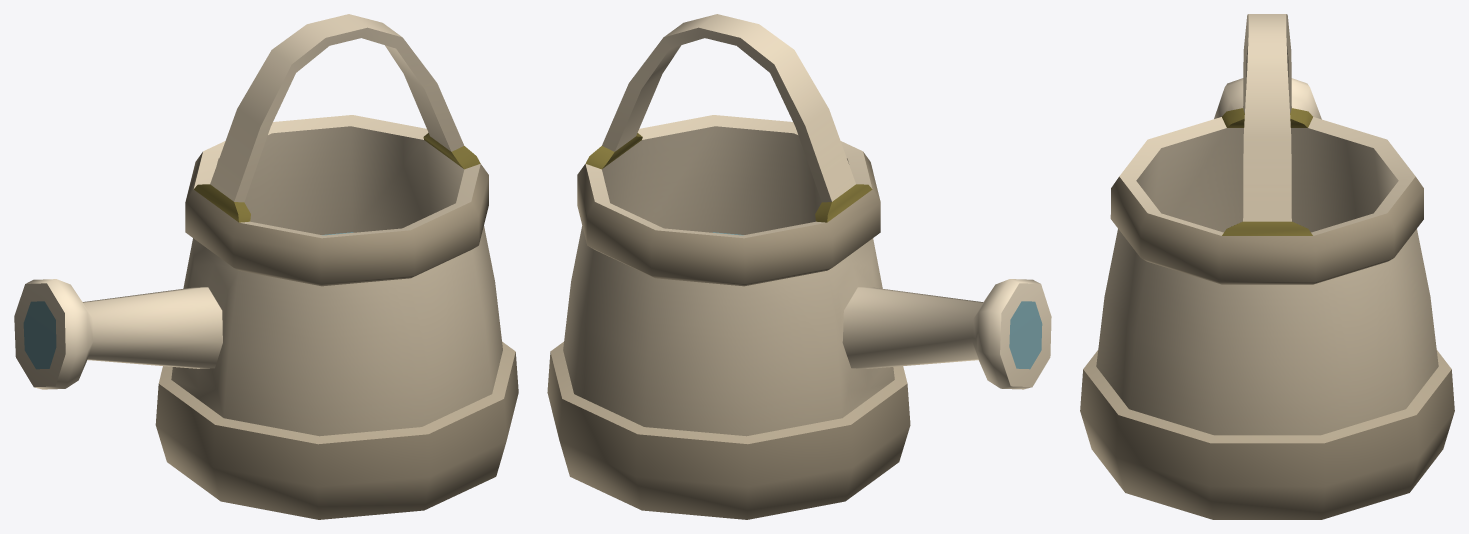
The model's file is WateringCan.fbx.
3 renders of one model, left to right at view 1: azimuth 30°, elevation 25°; view 2: azimuth 150°, elevation 25°; view 3: azimuth 270°, elevation 25°, orthographic.
Parts seen in each view (by area): view 1: WateringCan; view 2: WateringCan; view 3: WateringCan.
Boxes of the visible parts, x1,y1,x2,y2 form: WateringCan: (14,14,518,519); WateringCan: (547,14,1051,519); WateringCan: (1080,14,1454,519).
Bounding box in the file's own units: 0.8632 × 0.7778 × 0.6079.
1 material, 1 textured.
